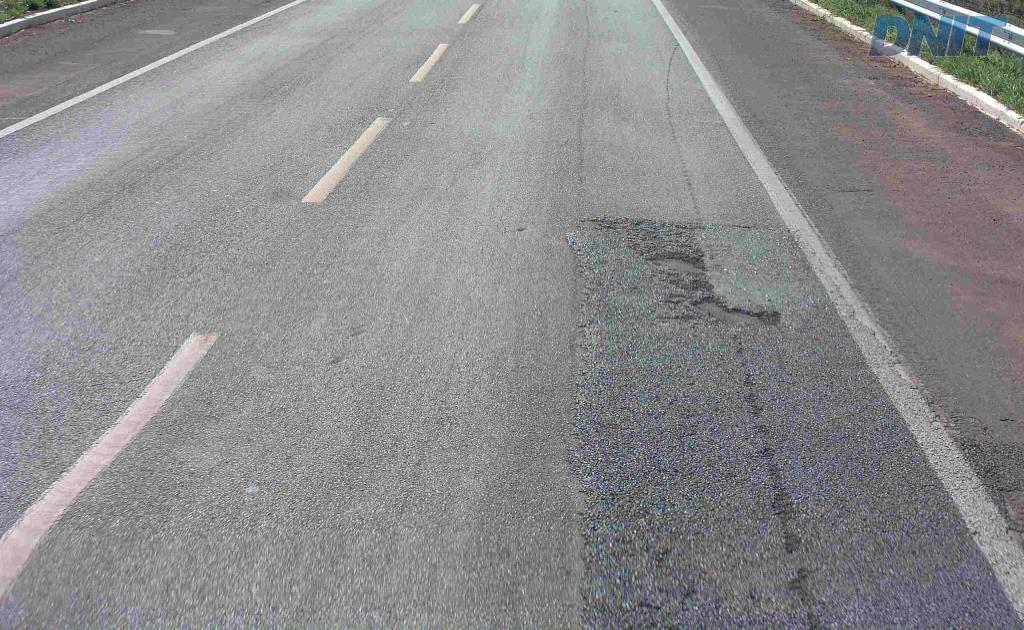pothole: (685, 287, 784, 334), (640, 245, 713, 276)
